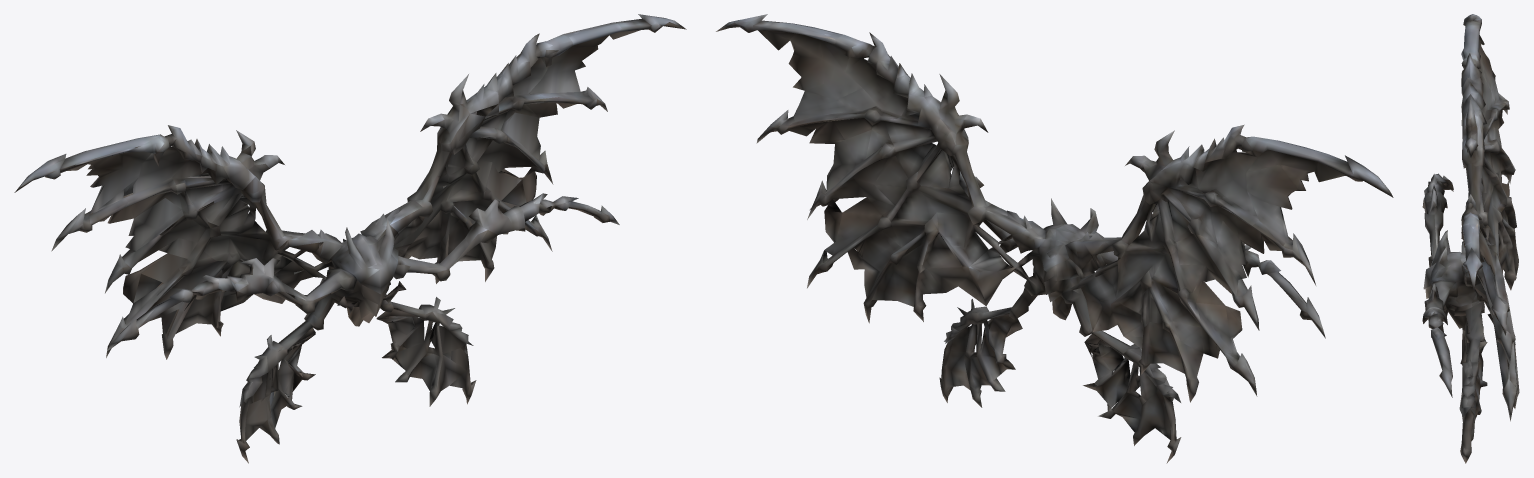
File: 钢铁翅膀4.fbx
The picture shows the model from 3 angles, left to right: view 1: azimuth 30°, elevation 25°; view 2: azimuth 150°, elevation 25°; view 3: azimuth 270°, elevation 25°; orthographic projection. The views are drawn at different scales.
Visible parts, largest first — view 1: geometry_0.004; view 2: geometry_0.004; view 3: geometry_0.004.
Boxes of the visible parts, x1,y1,x2,y2 form: geometry_0.004: (14, 14, 686, 463); geometry_0.004: (716, 14, 1393, 463); geometry_0.004: (1422, 14, 1519, 463).
Bounding box in the file's own units: 100 × 50.86 × 15.05.
